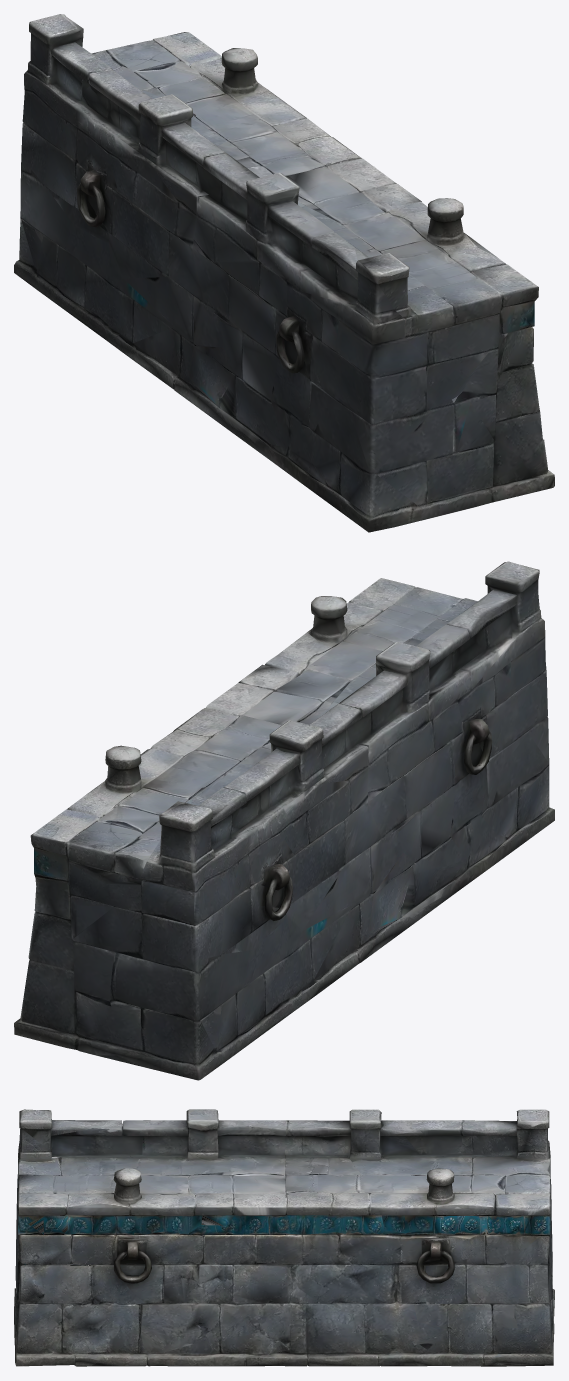
Rendered from river_quay.glb.
3 views of the same model, one above another, from view 1: azimuth 30°, elevation 25°; view 2: azimuth 150°, elevation 25°; view 3: azimuth 270°, elevation 25° (orthographic). The views are drawn at different scales.
Visible parts, largest first — view 1: tripo_node_8bde0807-1885-4bcb-8981-bb5143e04bcd; view 2: tripo_node_8bde0807-1885-4bcb-8981-bb5143e04bcd; view 3: tripo_node_8bde0807-1885-4bcb-8981-bb5143e04bcd.
Boxes of the visible parts, x1,y1,x2,y2 form: tripo_node_8bde0807-1885-4bcb-8981-bb5143e04bcd: (14,14,554,532); tripo_node_8bde0807-1885-4bcb-8981-bb5143e04bcd: (14,561,554,1080); tripo_node_8bde0807-1885-4bcb-8981-bb5143e04bcd: (14,1109,554,1366).
Size of the model in its own units: 0.3134 by 0.3858 by 0.981.
Materials: 1 (1 with a texture image).
